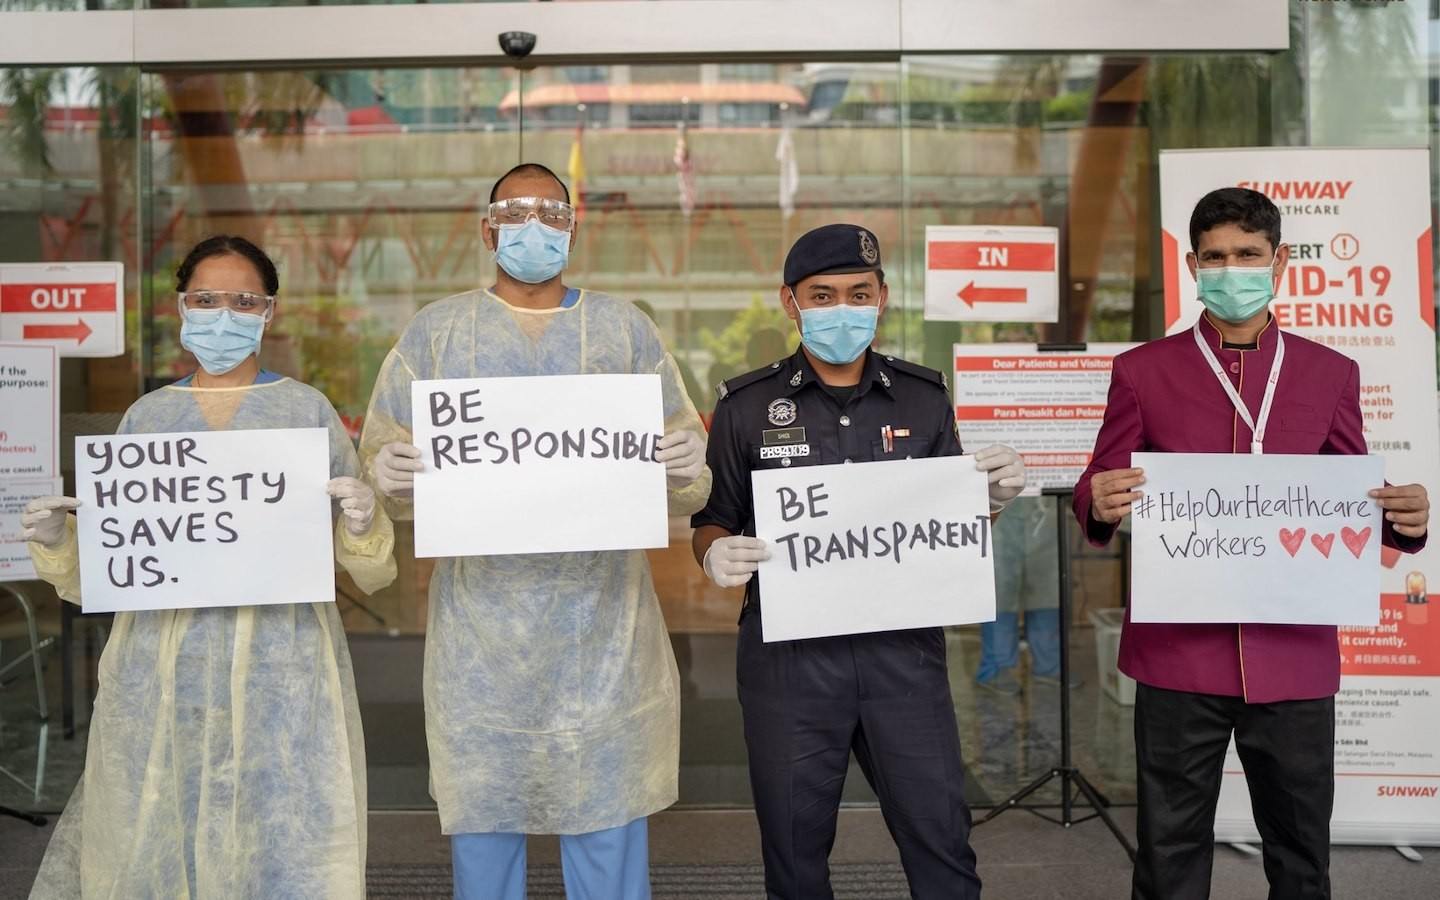Gloves: (697, 528, 774, 590), (366, 435, 429, 506), (974, 437, 1025, 517), (654, 421, 710, 493), (14, 495, 82, 550), (324, 475, 377, 532)
Goggles: (177, 289, 280, 325), (485, 196, 583, 232)
with_mask: (180, 292, 261, 376), (802, 285, 883, 368), (1193, 243, 1269, 325), (494, 209, 568, 282)
